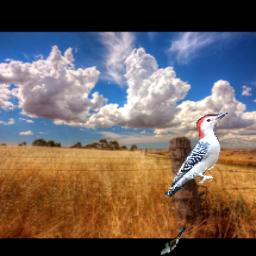Cuckoo: (161, 227, 187, 255)
Woodpecker: (163, 111, 229, 197)
